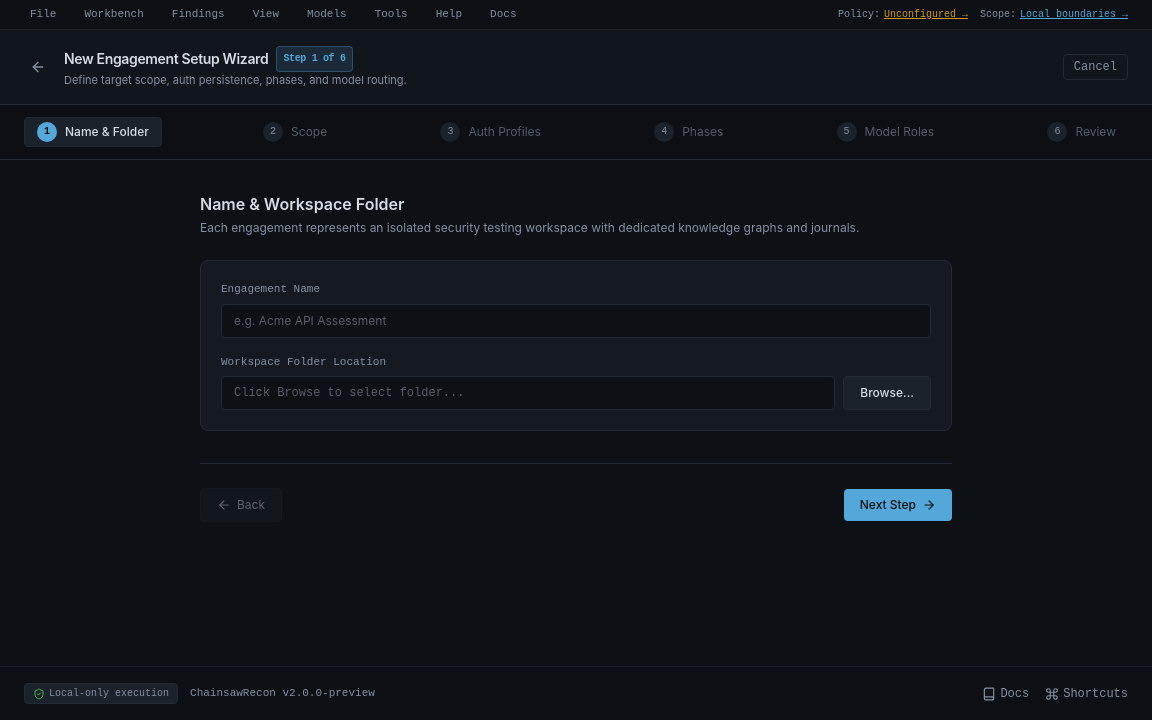
Test: EngagementWizardPage (Milestone 0.5) Tests › validates Step 1 requirements and blocks Next if name or folder is missing
Click the button "Next Step" at (898, 505), box [844,489,952,521]
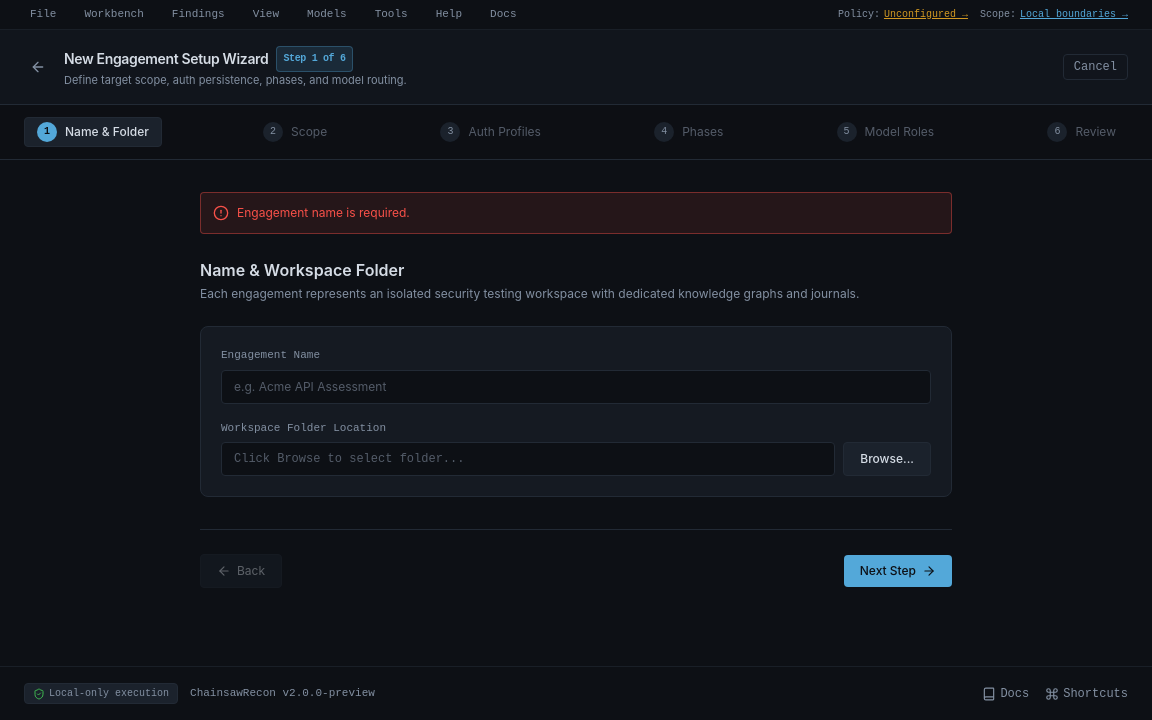
Check: the text "Engagement name is required." is shown, box [237,205,410,221]
